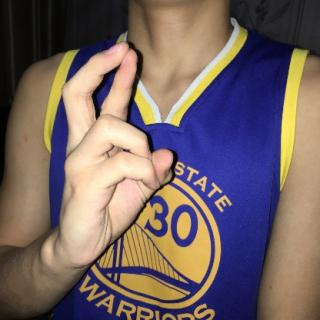ZAY: (53, 38, 182, 270)
